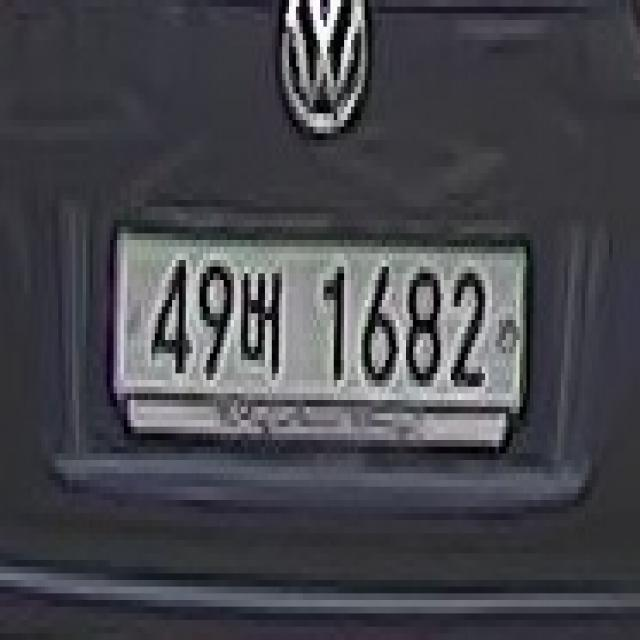1: (318, 254, 351, 384)
2: (452, 261, 491, 394)
4: (148, 251, 193, 388)
6: (360, 257, 400, 396)
8: (406, 258, 442, 394)
9: (198, 251, 235, 386)
beo: (238, 258, 292, 388)
license_plate: (113, 202, 533, 452)
